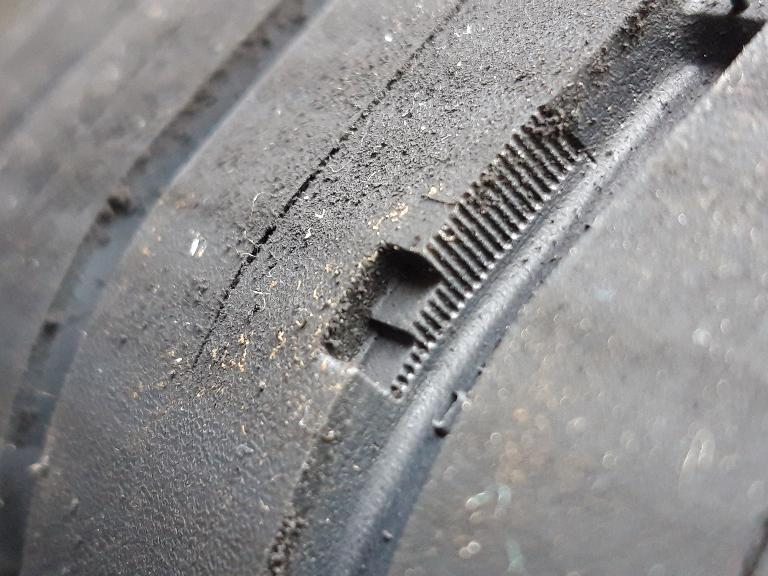temoin:50: (308, 187, 513, 414)
